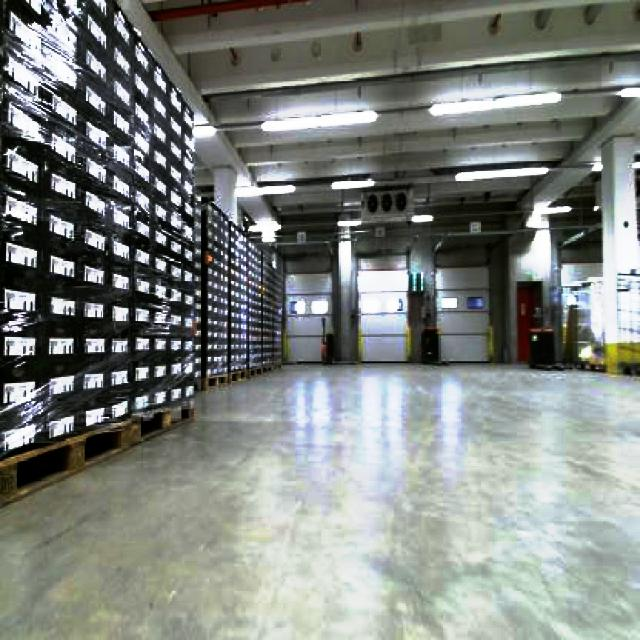ground: (0, 358, 638, 638)
pallet: (0, 402, 195, 515), (198, 198, 285, 389)
